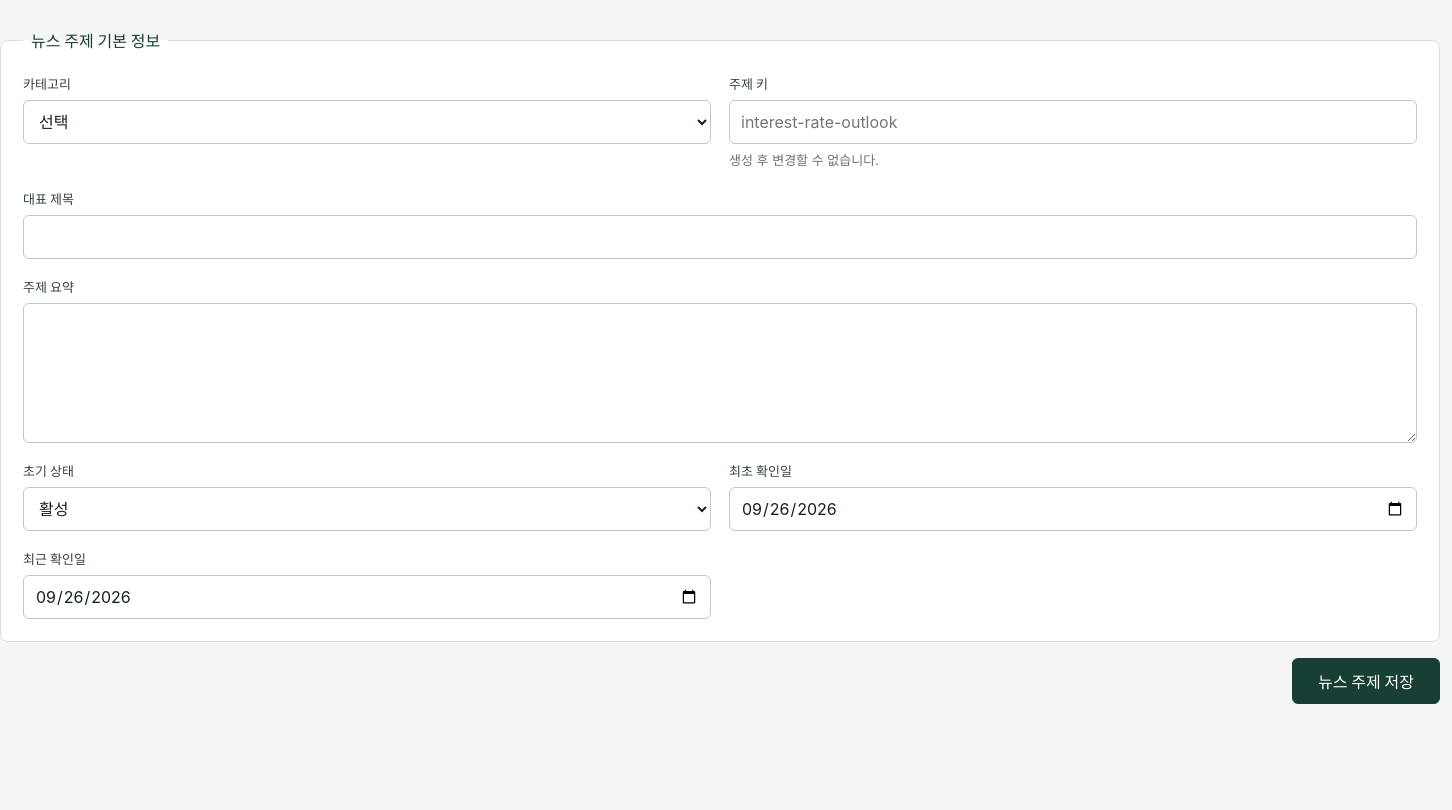
Test case: NewsTopicForm › shows date order validation
This screenshot has width=1452, height=810.
Select "경제" in the dropdown labelled "카테고리": (367, 122) [23,100,711,144]
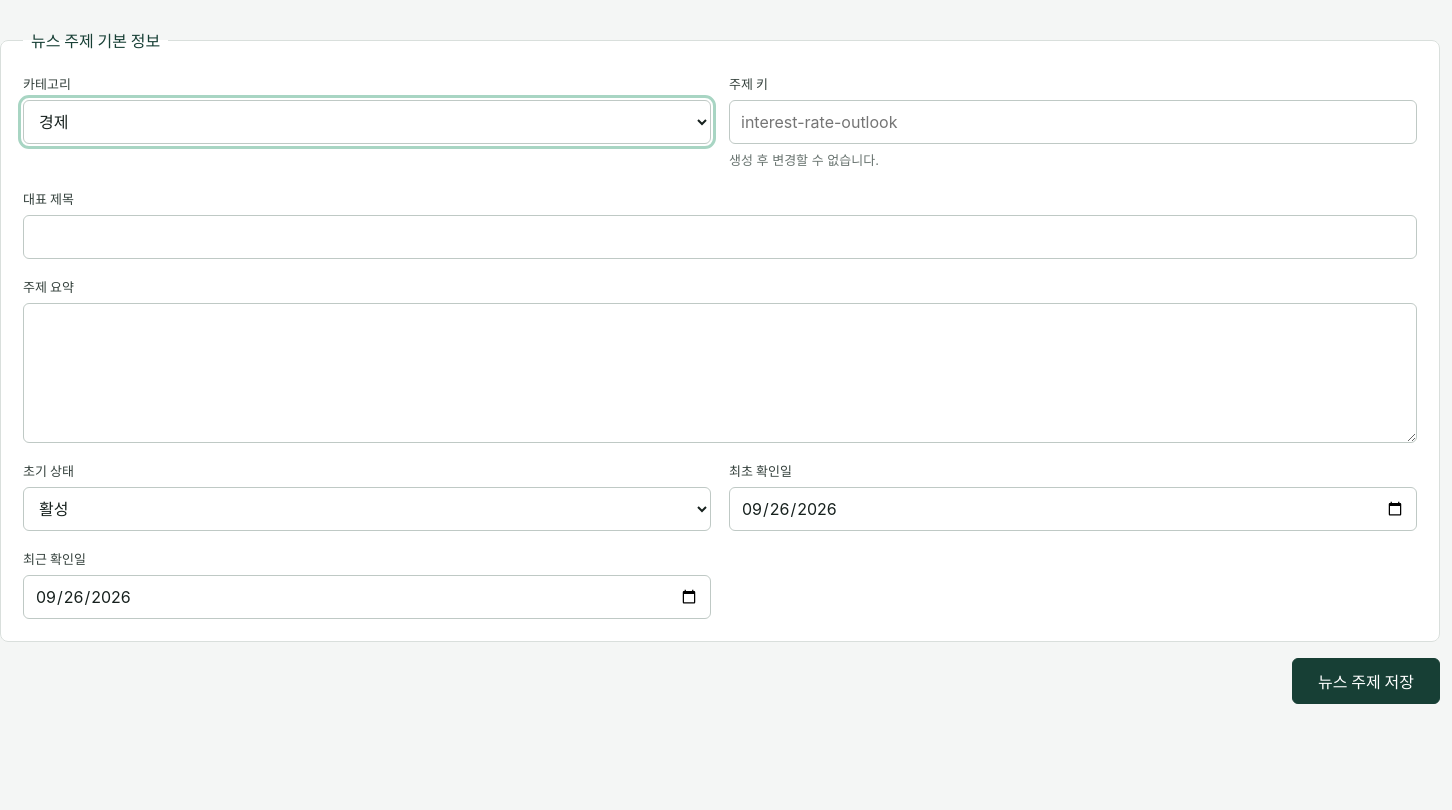
In the field labelled "주제 키": (1073, 122) [729,100,1417,144], type "rate"
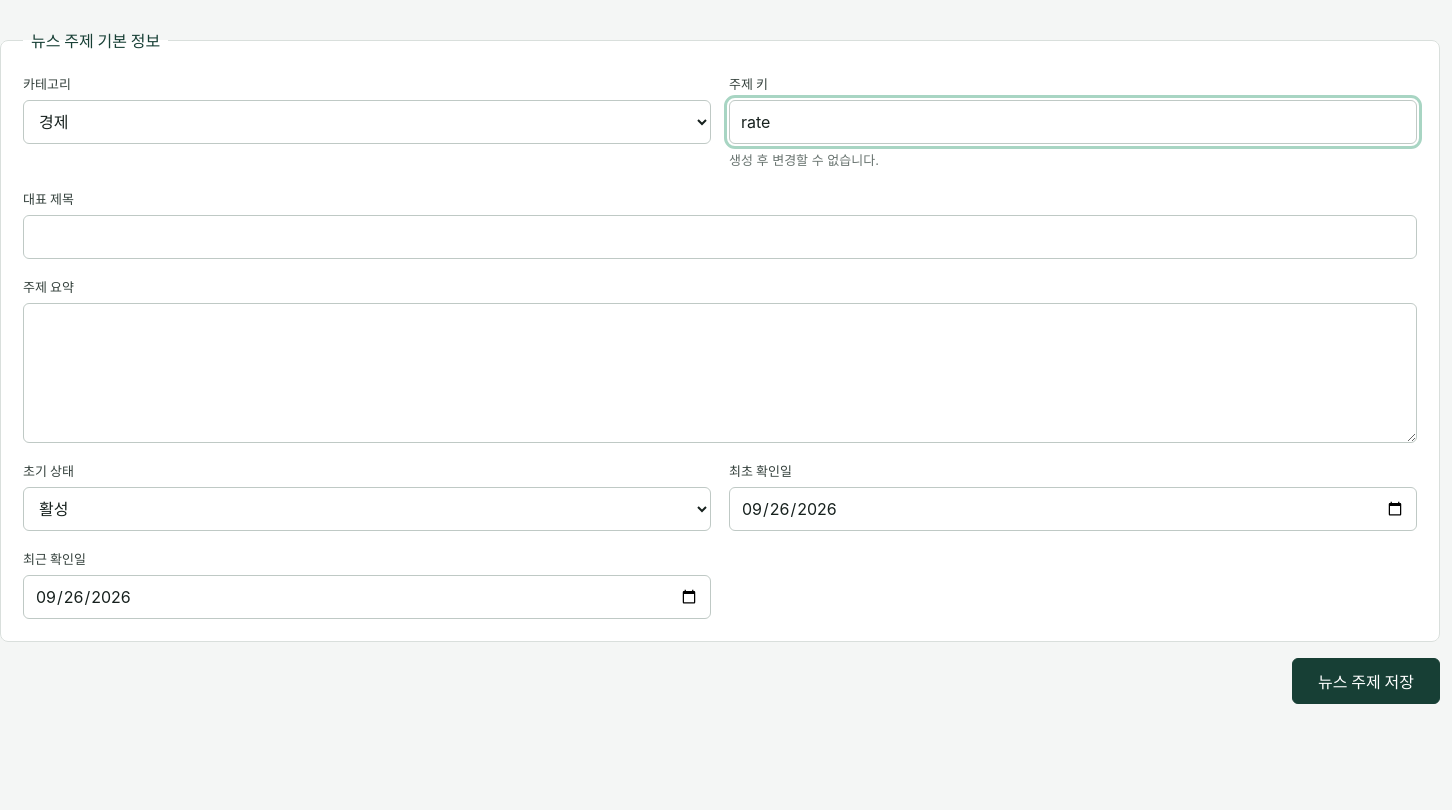
In the field labelled "대표 제목": (720, 236) [23,214,1417,258], type "금리"
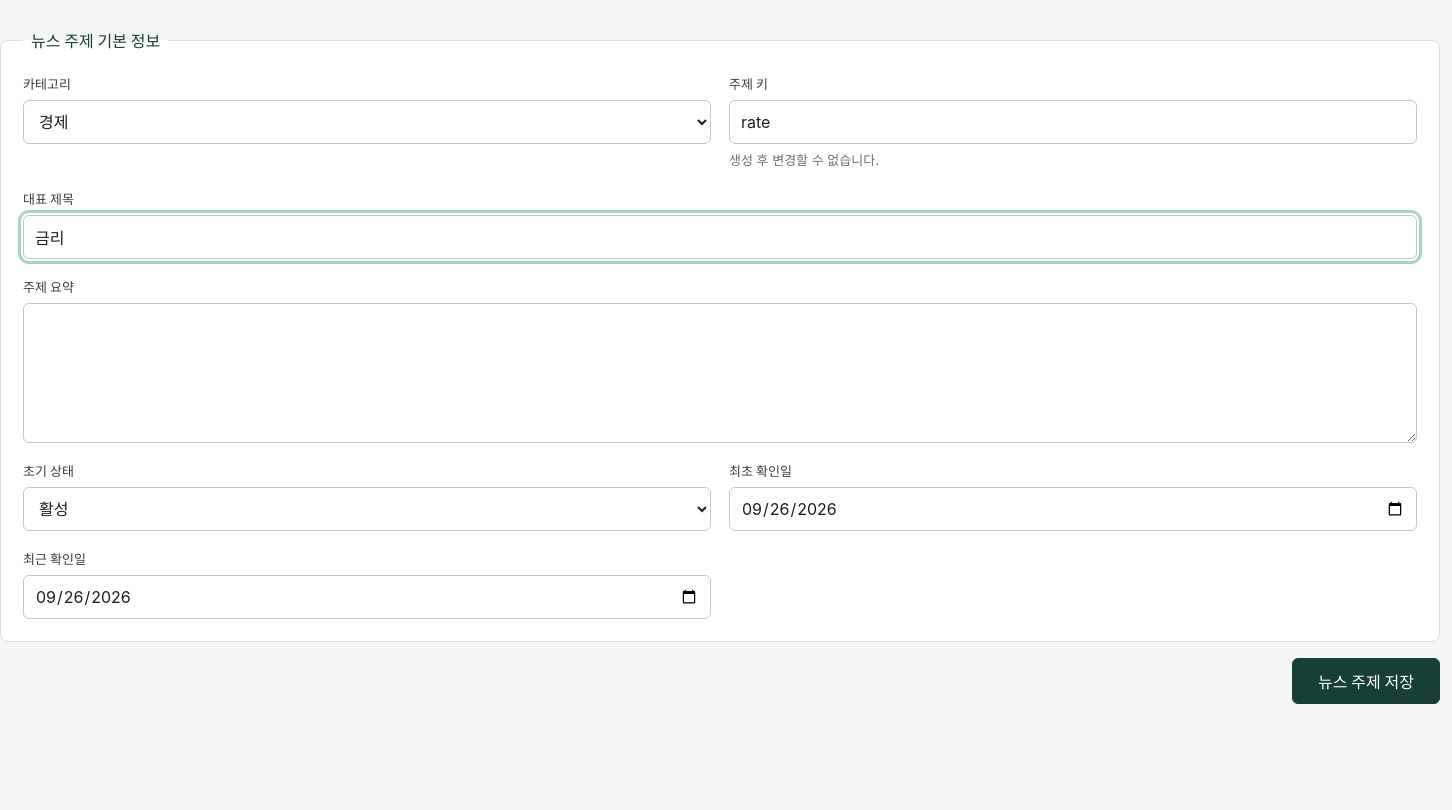
In the date field labelled "최초 확인일": (1073, 508) [729,486,1417,530], type "2026-07-02"
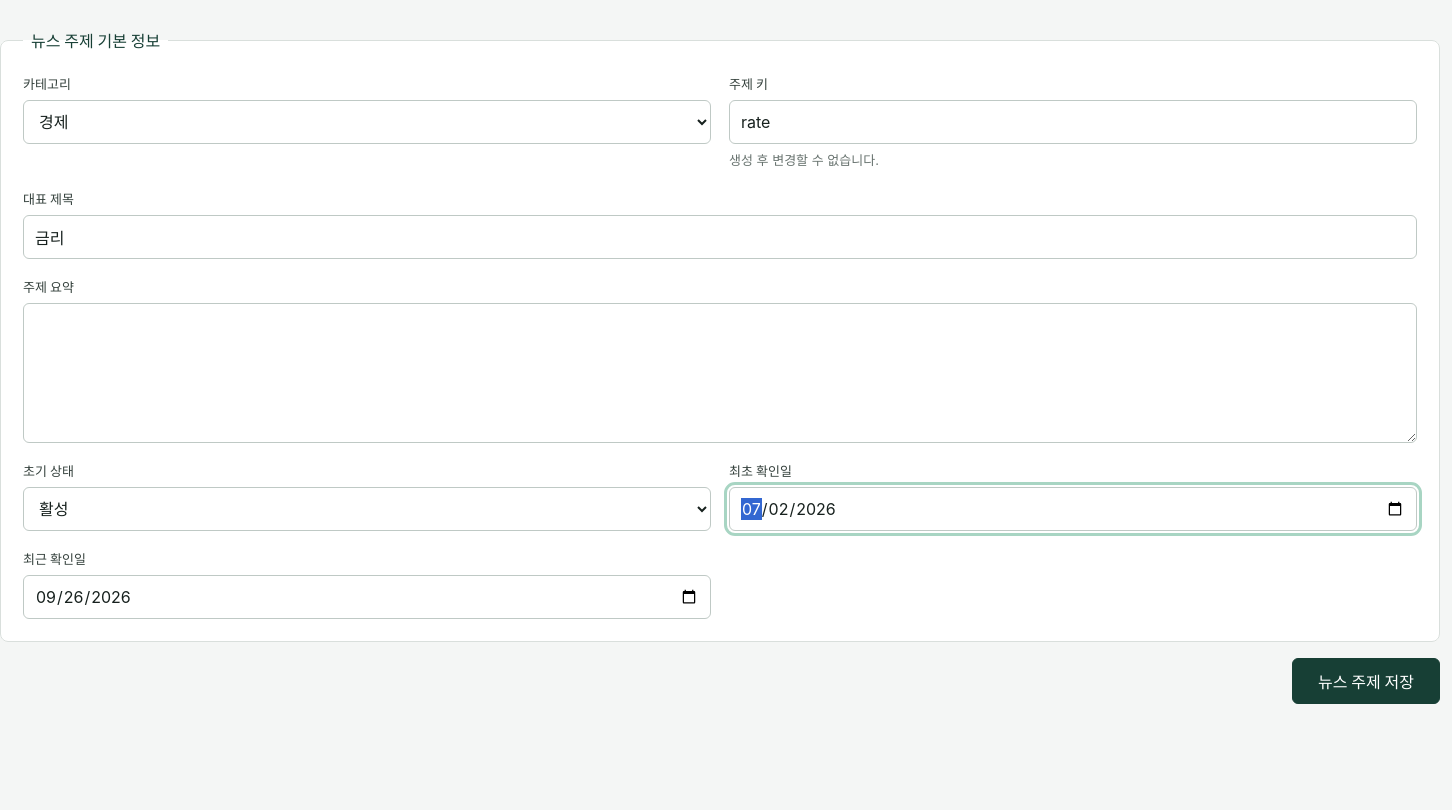
In the date field labelled "최근 확인일": (367, 596) [23,574,711,618], type "2026-07-01"
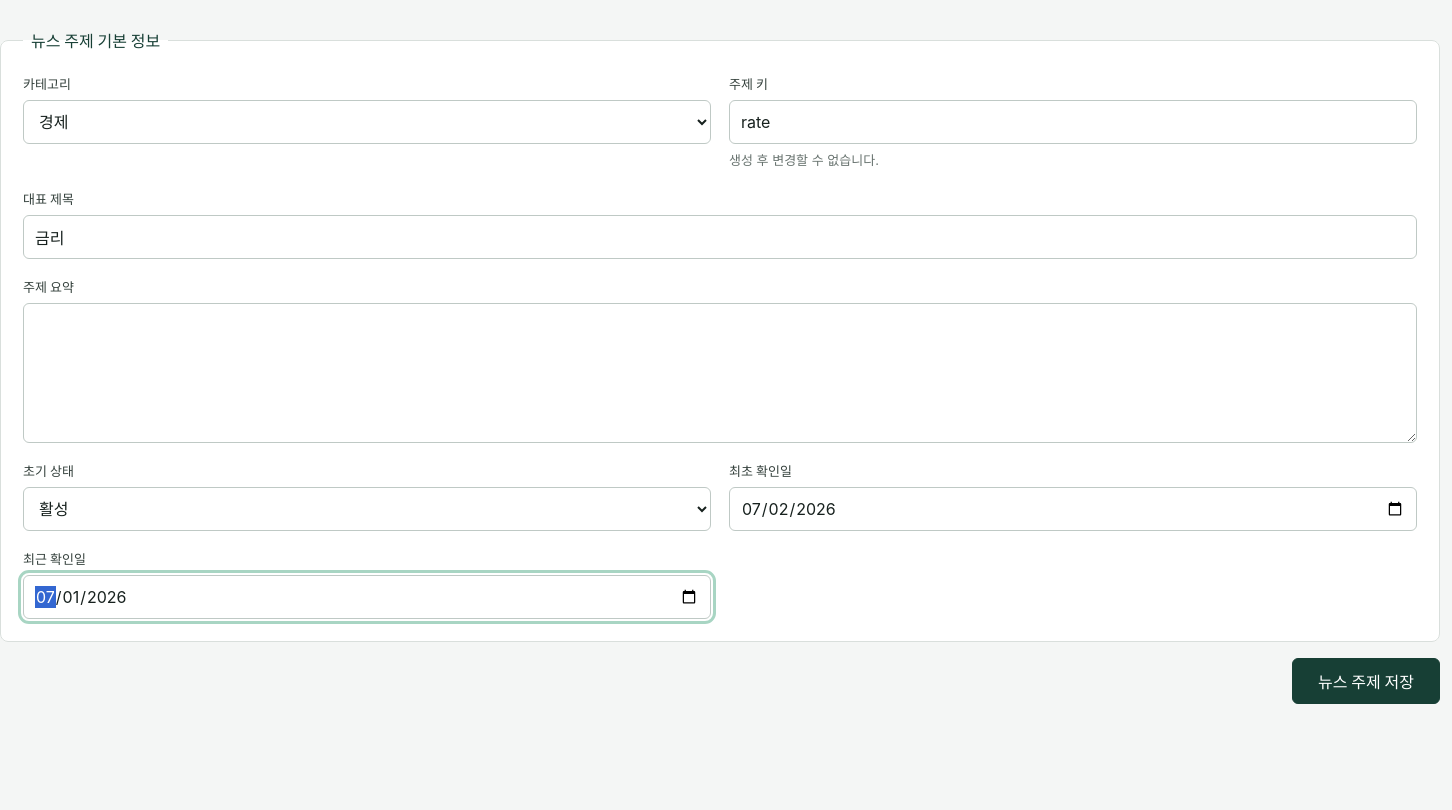
Click the button "뉴스 주제 저장": (1366, 680) [1292,658,1440,704]
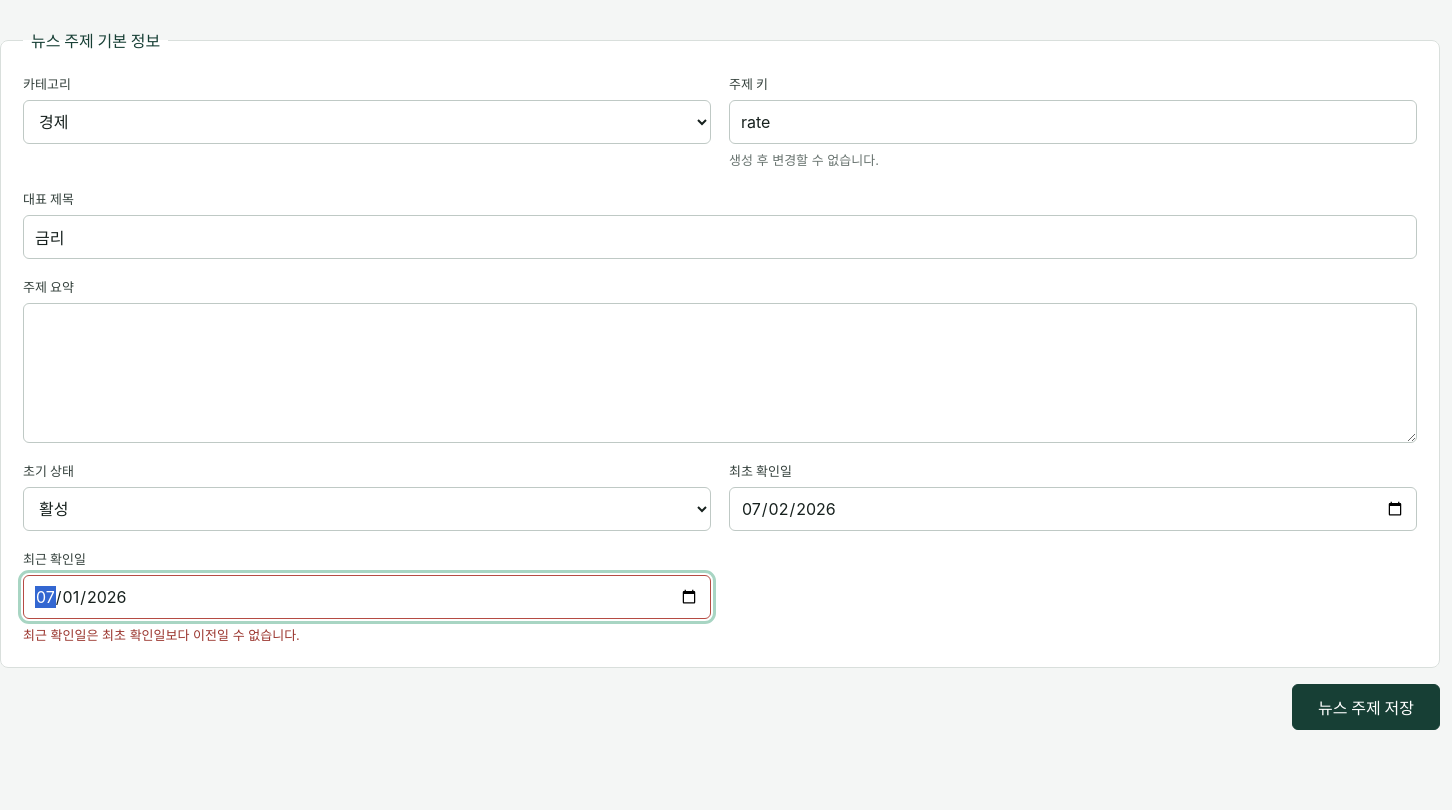
Expected: the text "최근 확인일은 최초 확인일보다 이전일 수 없습니다." is shown, [23,626,300,642]
